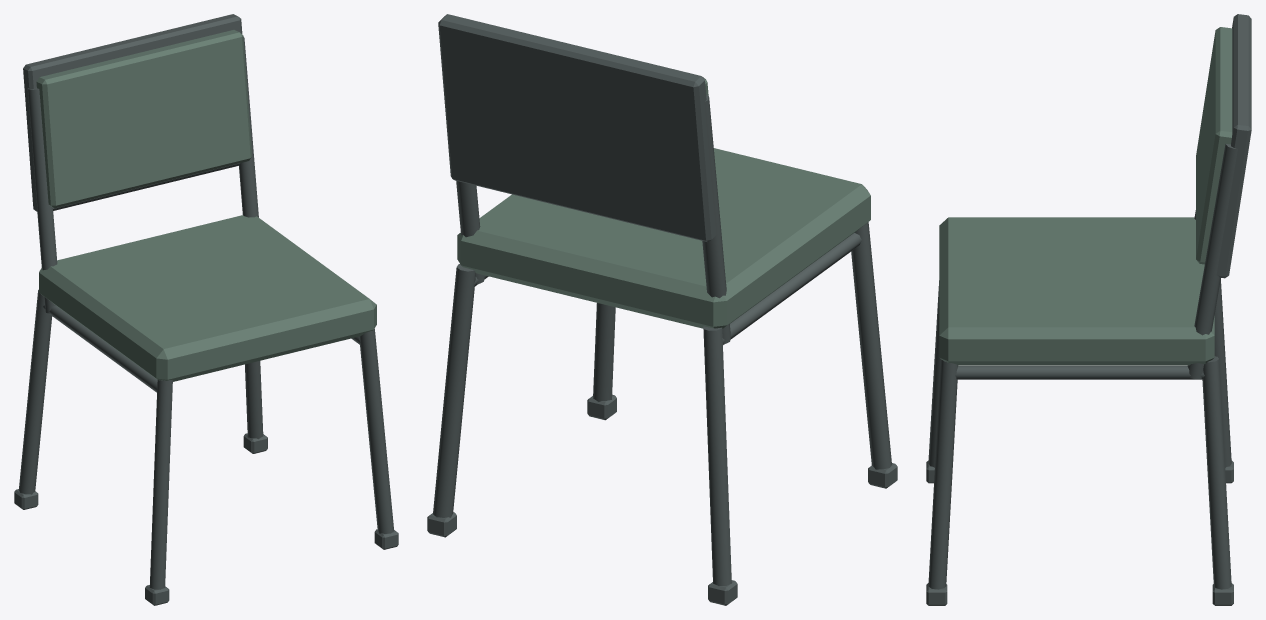
Rendered from dorm-chair.glb.
3 renders of one model, left to right at view 1: azimuth 30°, elevation 25°; view 2: azimuth 150°, elevation 25°; view 3: azimuth 270°, elevation 25°, orthographic. The views are drawn at different scales.
Visible parts, largest first — view 1: dorm-chair; view 2: dorm-chair; view 3: dorm-chair.
Boxes of the visible parts, x1,y1,x2,y2 form: dorm-chair: [14, 14, 398, 605]; dorm-chair: [427, 14, 897, 605]; dorm-chair: [926, 14, 1251, 605].
Size of the model in its own units: 0.5138 by 0.8599 by 0.5375.
